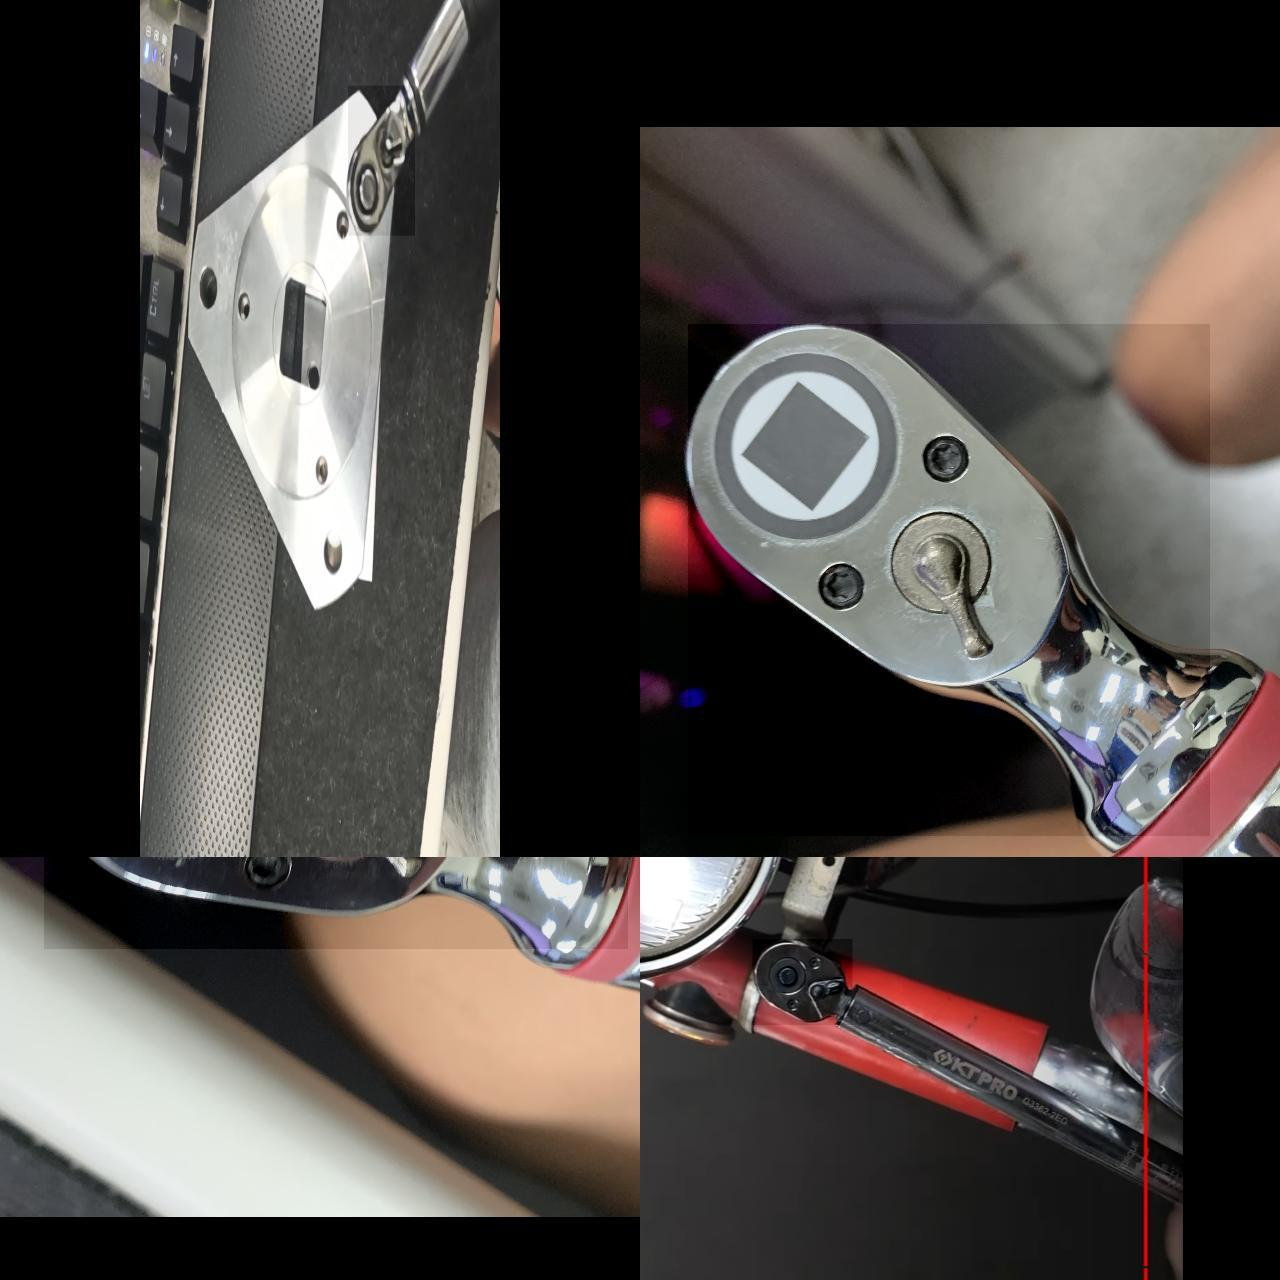Tool: (688, 324, 1210, 835), (45, 857, 628, 948), (348, 84, 415, 234), (753, 938, 852, 1023)
